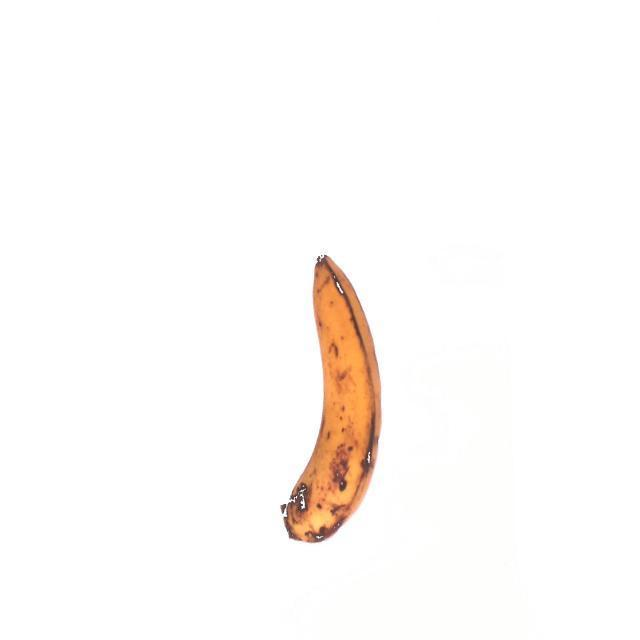Banana: (282, 242, 383, 544)
